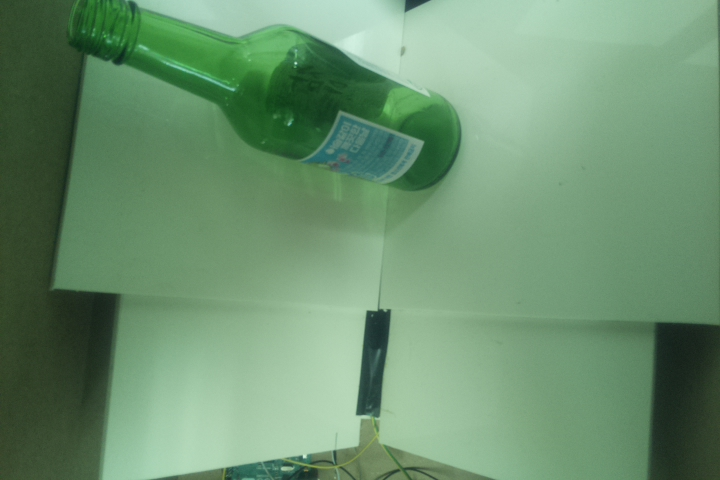soju: (68, 1, 462, 192)
